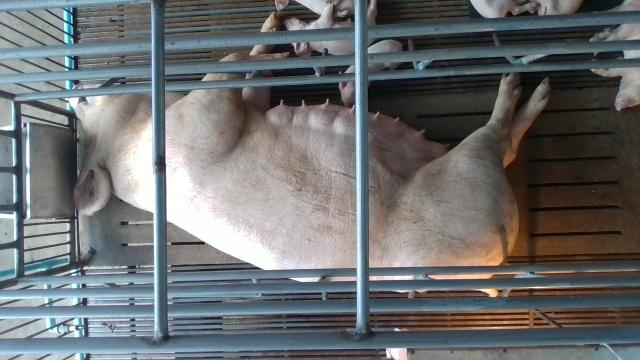piglet: (588, 0, 639, 112), (285, 1, 379, 55), (338, 41, 402, 107), (272, 0, 356, 16), (467, 0, 537, 18), (531, 0, 584, 16)
sow-sleep-lactate: (69, 9, 549, 298)
